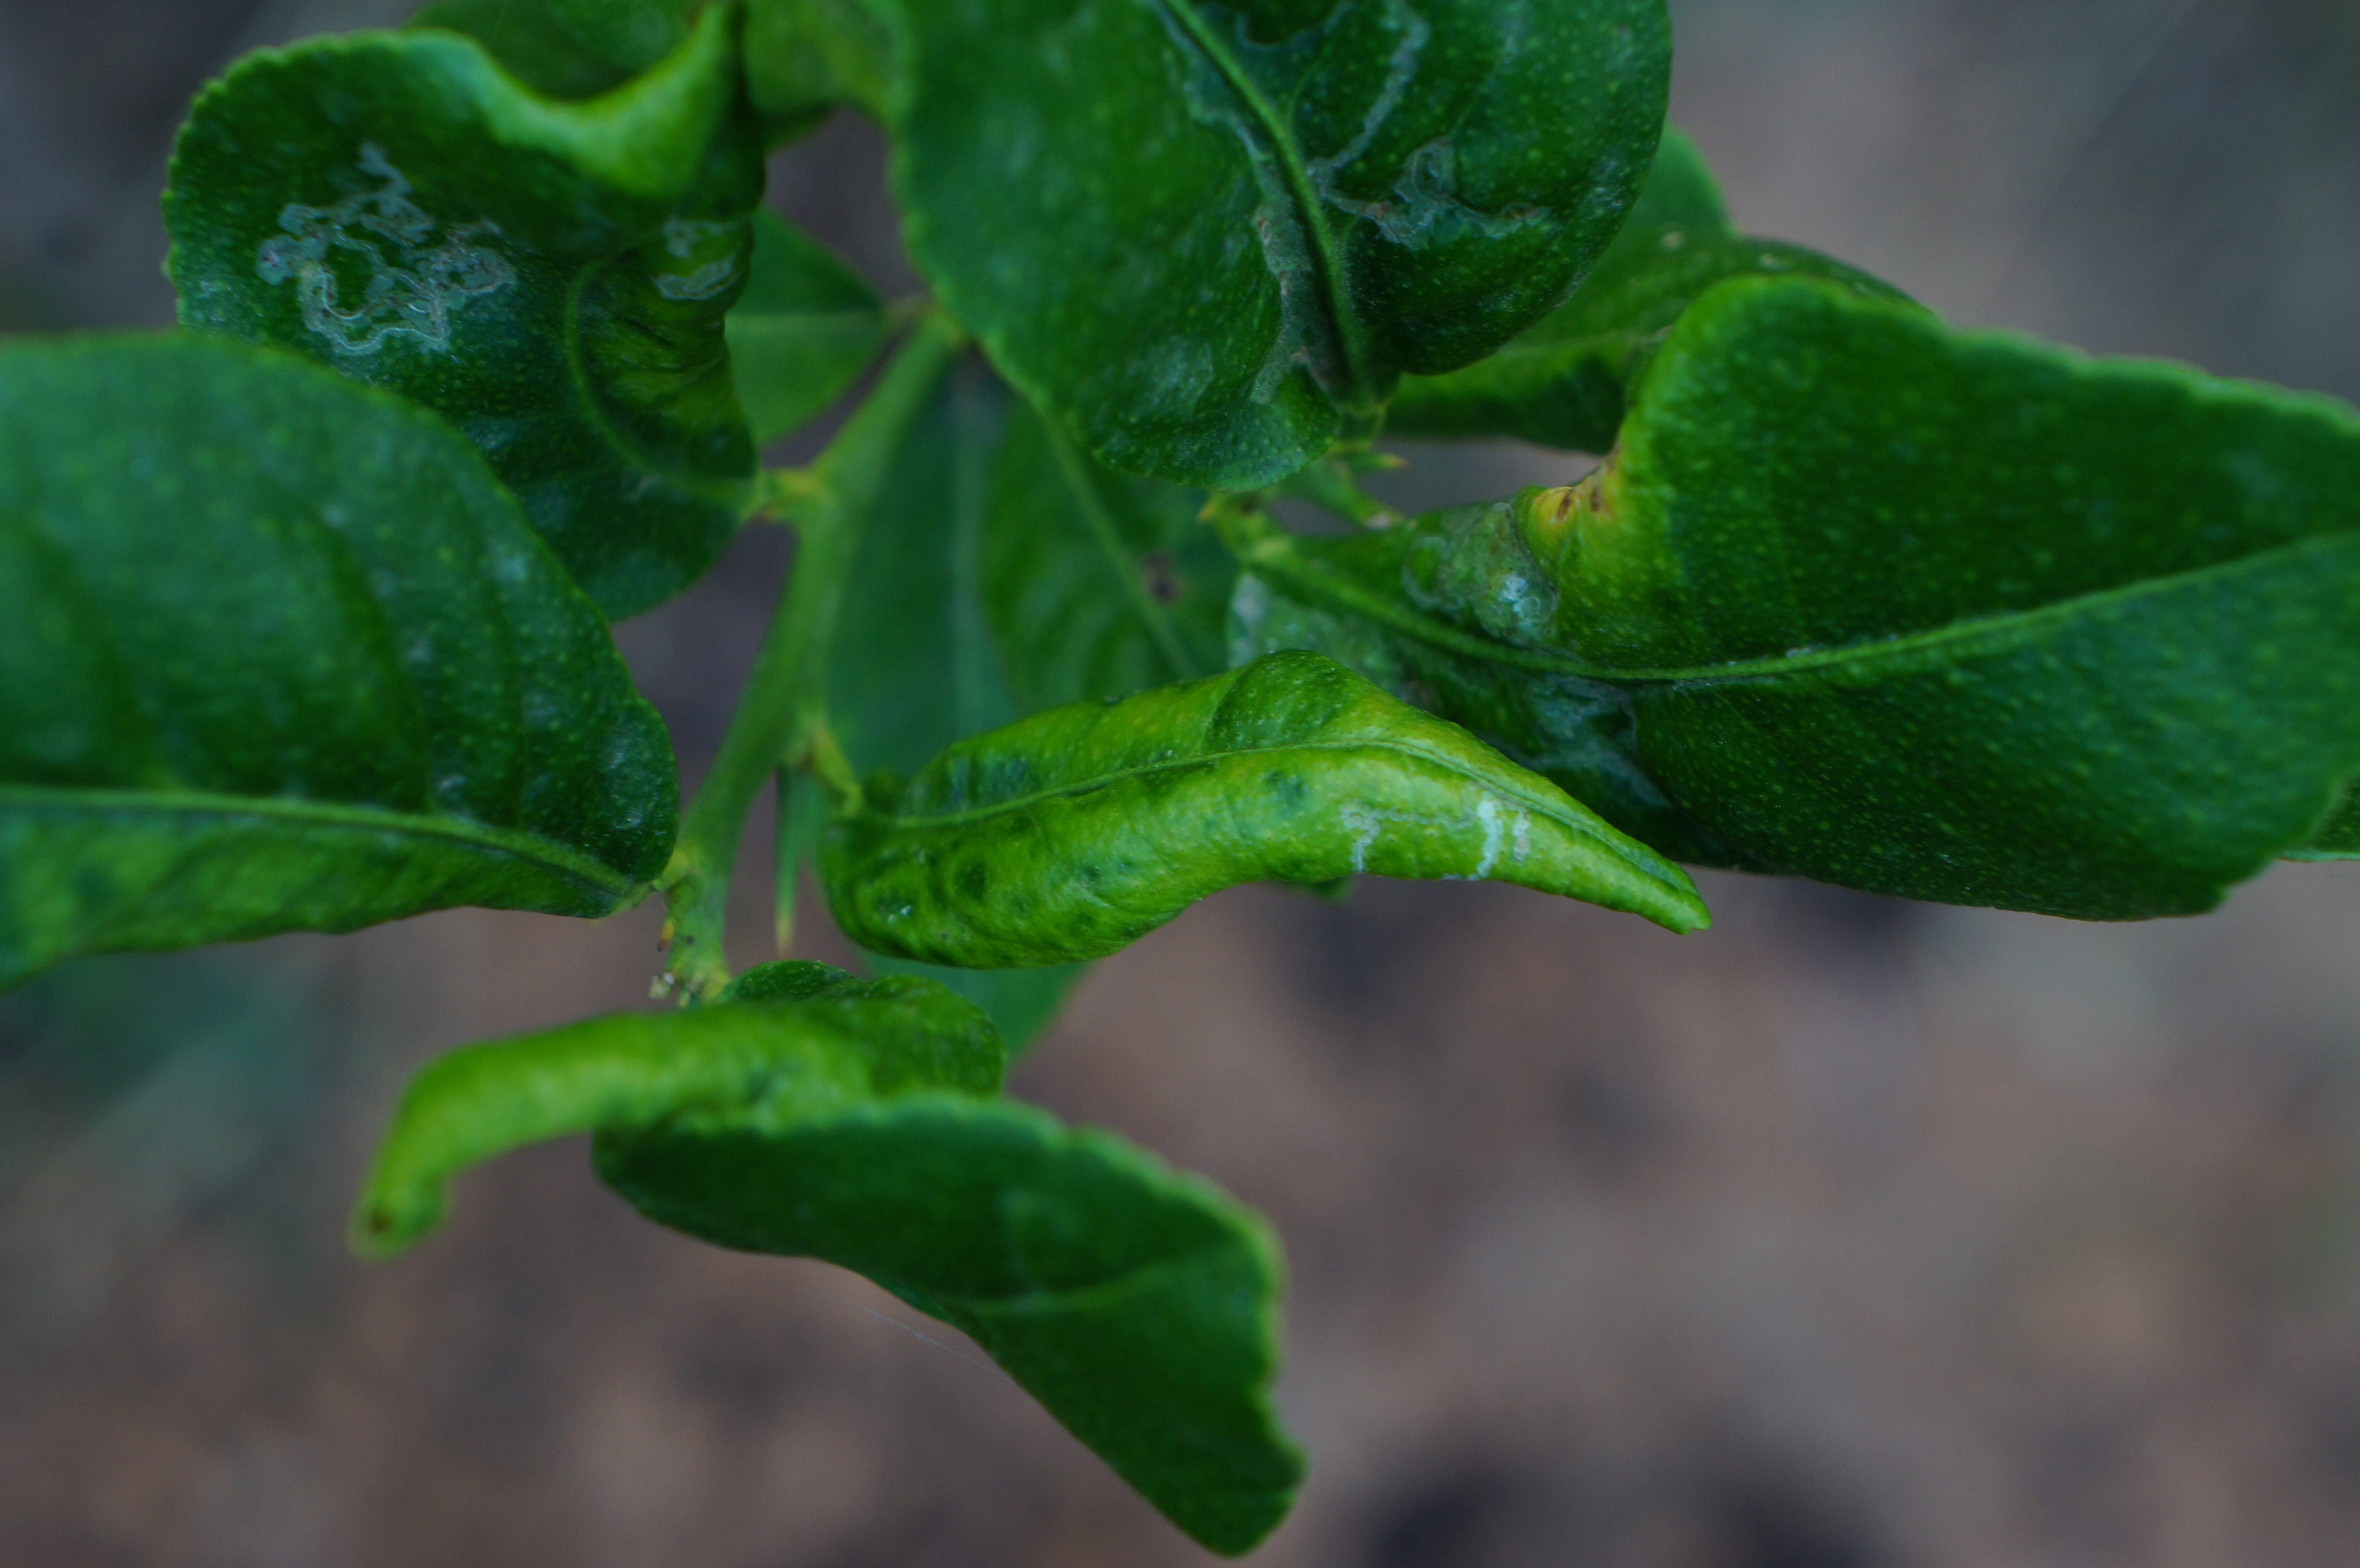curly: (813, 646, 1725, 996)
damage: (238, 138, 539, 362)
